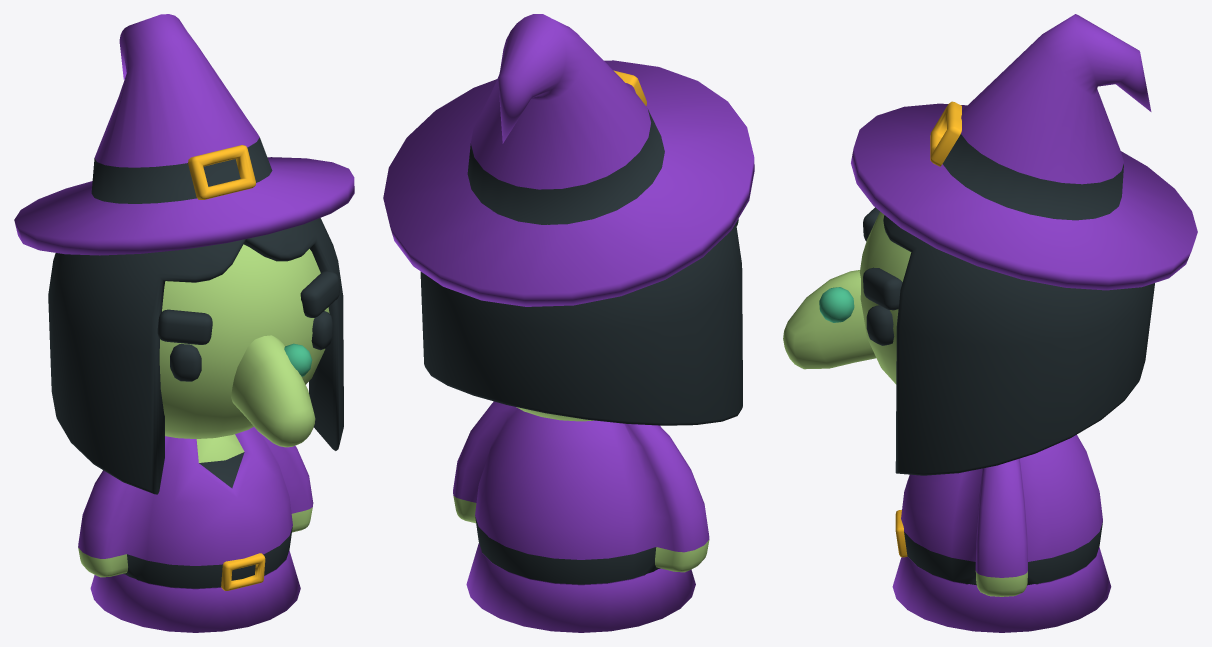
The model's file is character_witch.gltf.
3 views of the same model, side by side, from view 1: azimuth 30°, elevation 25°; view 2: azimuth 150°, elevation 25°; view 3: azimuth 270°, elevation 25° (orthographic). The views are drawn at different scales.
Parts seen in each view (by area): view 1: character_witchHead, character_witchHat, character_witch; view 2: character_witchHat, character_witch, character_witchHead; view 3: character_witchHat, character_witchHead, character_witch.
Part boxes in pixels (x1,y1,x2,y2): character_witchHead: (48, 218, 343, 494); character_witchHat: (14, 14, 354, 255); character_witch: (78, 427, 313, 632); character_witchHat: (383, 14, 754, 306); character_witch: (453, 401, 709, 632); character_witchHead: (420, 211, 742, 425); character_witchHat: (851, 14, 1197, 290); character_witchHead: (783, 207, 1154, 475); character_witch: (892, 434, 1111, 632).
Bounding box in the file's own units: 1.23 × 2.18 × 1.44.
